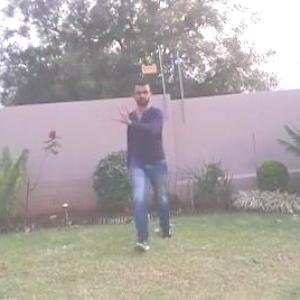follow_hand: (107, 100, 136, 130)
